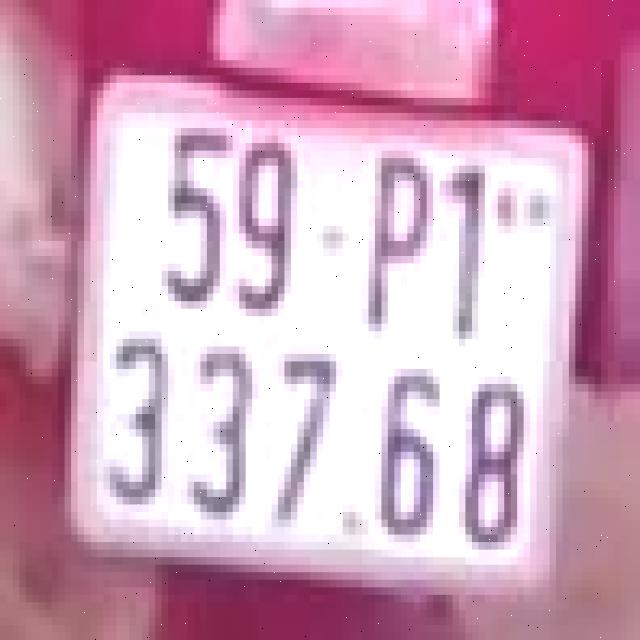1: (433, 158, 498, 346)
3: (188, 343, 258, 523), (107, 323, 165, 520)
5: (158, 102, 230, 320)
6: (366, 354, 450, 542)
7: (272, 338, 342, 534)
8: (452, 365, 536, 546)
9: (233, 128, 297, 324)
P: (356, 139, 440, 343)
